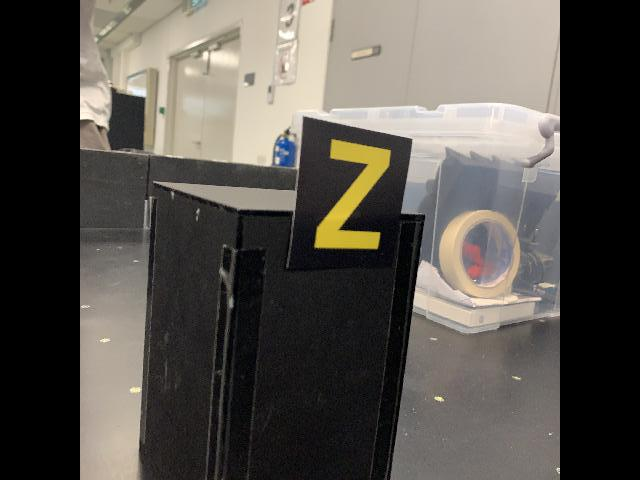z: (284, 113, 414, 275)
